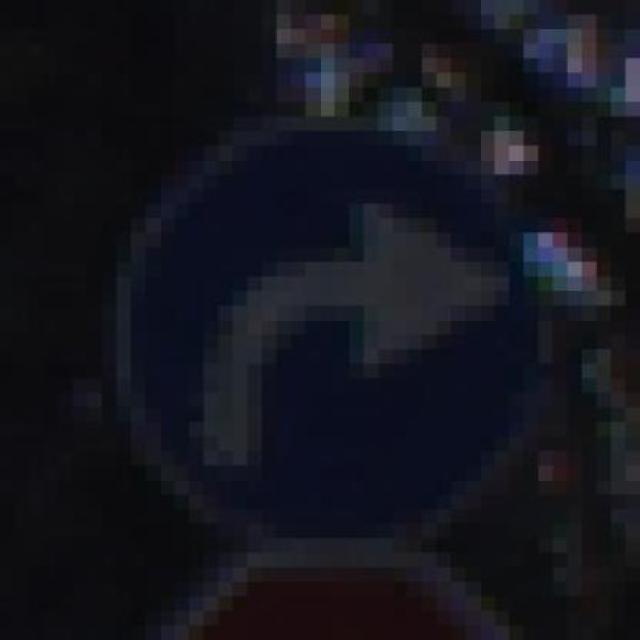Turn right ahead: (58, 88, 582, 538)
